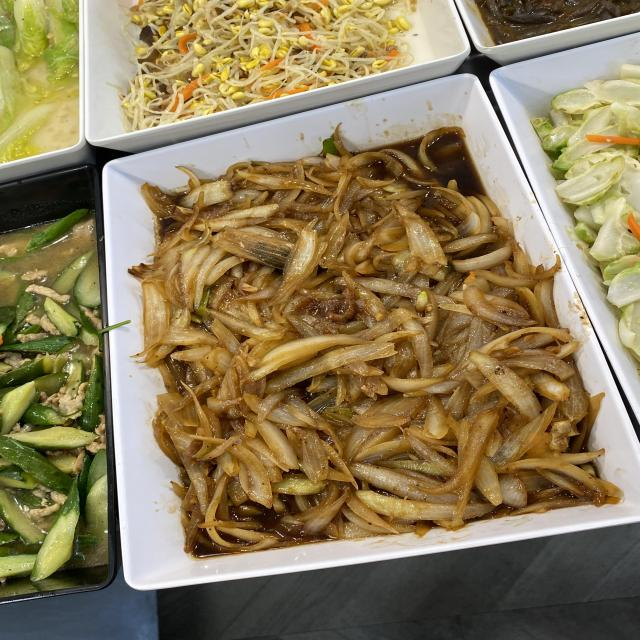Fried onions: (198, 230, 514, 518)
